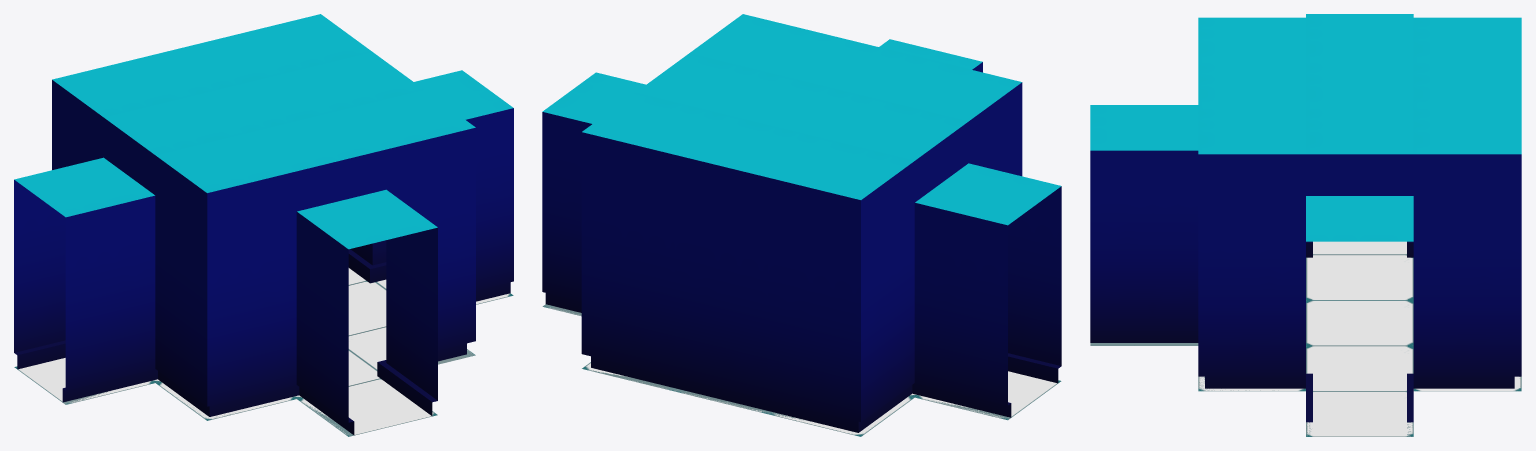
Rendered from SalaPequena2Saidas.fbx.
3 views of the same model, side by side, from view 1: azimuth 30°, elevation 25°; view 2: azimuth 150°, elevation 25°; view 3: azimuth 270°, elevation 25° (orthographic). The views are drawn at different scales.
Parts seen in each view (by area): view 1: SalaPequena2Saidas; view 2: SalaPequena2Saidas; view 3: SalaPequena2Saidas.
Boxes of the visible parts, left/top/right/bottom form: SalaPequena2Saidas: left=14, top=14, right=513, bottom=436; SalaPequena2Saidas: left=542, top=14, right=1061, bottom=436; SalaPequena2Saidas: left=1090, top=14, right=1521, bottom=436.
Bounding box in the file's own units: 500 × 243 × 400.
Materials: 1 (1 with a texture image).
